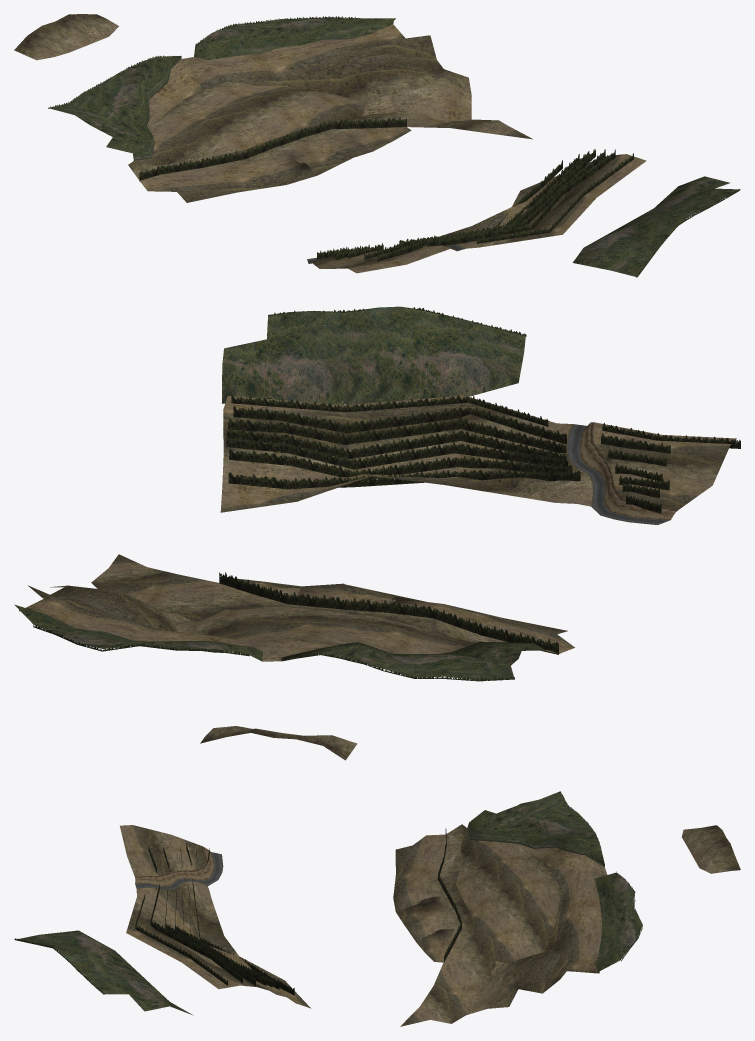
File: ebisuminami9.glb
The picture shows the model from 3 angles, top to bottom: view 1: azimuth 30°, elevation 25°; view 2: azimuth 150°, elevation 25°; view 3: azimuth 270°, elevation 25°; orthographic projection. The views are drawn at different scales.
Parts seen in each view (by area): view 1: Object019; view 2: Object019; view 3: Object019.
Part boxes in pixels (x1,y1,x2,y2): Object019: (14,14,740,277); Object019: (14,306,740,760); Object019: (14,791,740,1026).
Size of the model in its own units: 584 by 85.75 by 885.
Materials: 4 (4 with a texture image).
